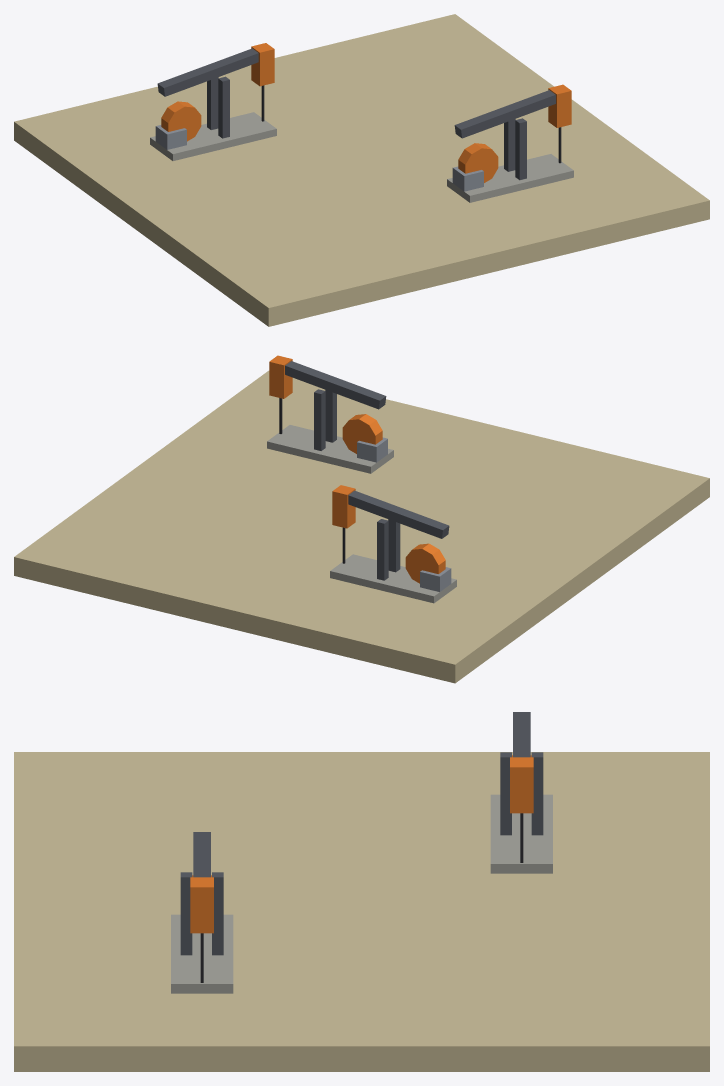
File: oil_rent_2.glb
3 renders of one model, top to bottom at view 1: azimuth 30°, elevation 25°; view 2: azimuth 150°, elevation 25°; view 3: azimuth 270°, elevation 25°, orthographic. The views are drawn at different scales.
Parts seen in each view (by area): view 1: oil_rent_2; view 2: oil_rent_2; view 3: oil_rent_2.
Boxes of the visible parts, left/top/right/bottom form: oil_rent_2: left=14, top=14, right=709, bottom=326; oil_rent_2: left=14, top=355, right=709, bottom=683; oil_rent_2: left=14, top=712, right=709, bottom=1071.
Bounding box in the file's own units: 1.96 × 0.421 × 1.96.
